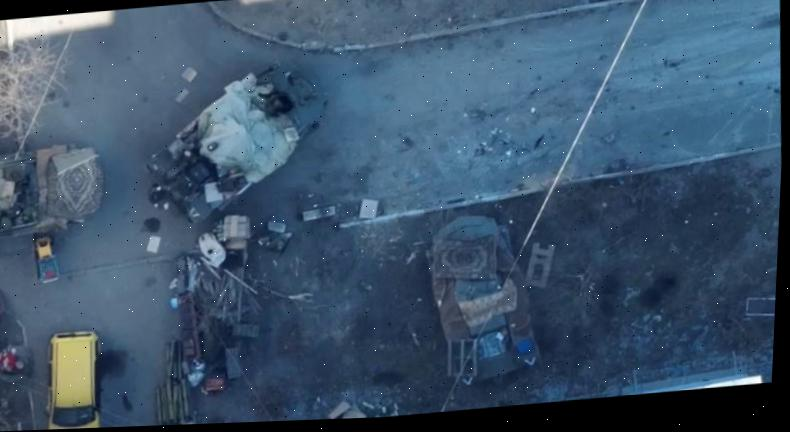car: (37, 326, 107, 430)
tank: (135, 57, 335, 227), (415, 208, 551, 392)
